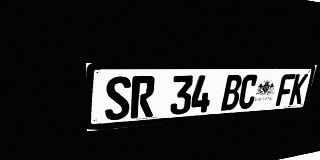3: (170, 75, 194, 115)
4: (190, 75, 213, 113)
B: (221, 75, 243, 111)
C: (237, 74, 259, 109)
F: (275, 74, 296, 106)
K: (289, 74, 308, 105)
R: (130, 76, 156, 119)
S: (105, 76, 131, 121)
